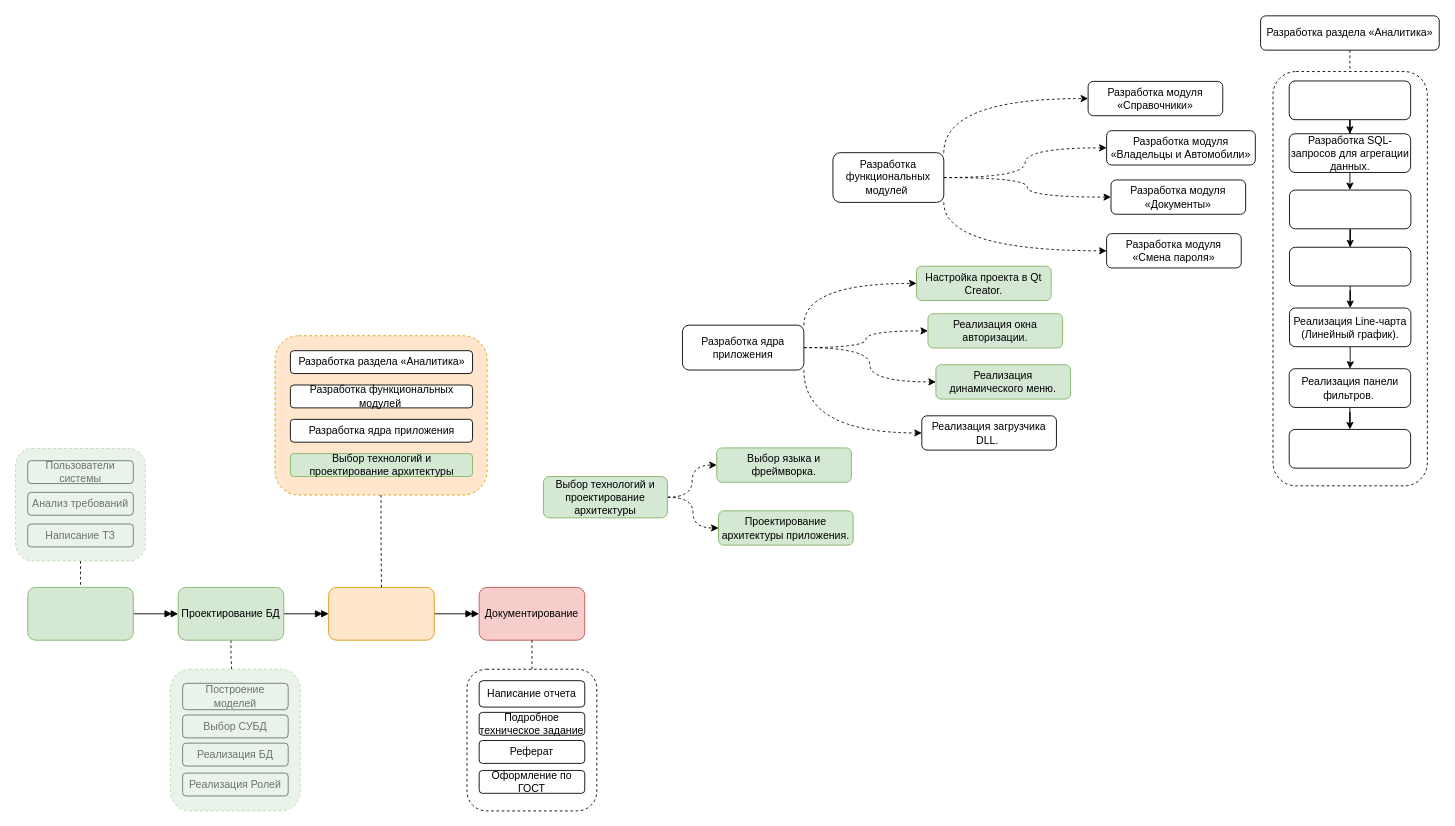
Some shapes in this 1455 by 826 pixel diagram are drawn without their labels. The shapes that lost their labels are listed below. From the top down, each one's centre as x and y in pixels, then its label:
At point (1349, 100): "Выбор библиотеки визуализации.".
At point (1350, 209): "Реализация Pie-чарта (Круговая диаграмма)".
At point (1350, 266): "Реализация Bar-чарта (Столбчатая диаграмма).".
At point (1349, 448): "Реализация экспорта графиков.".
At point (80, 613): "Постановка задачи".
At point (381, 613): "Проектирование GUI".
